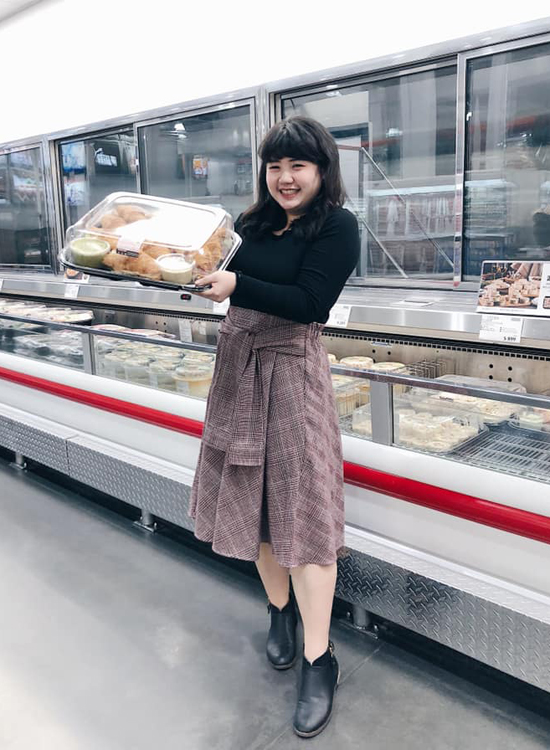people: (186, 117, 363, 735)
